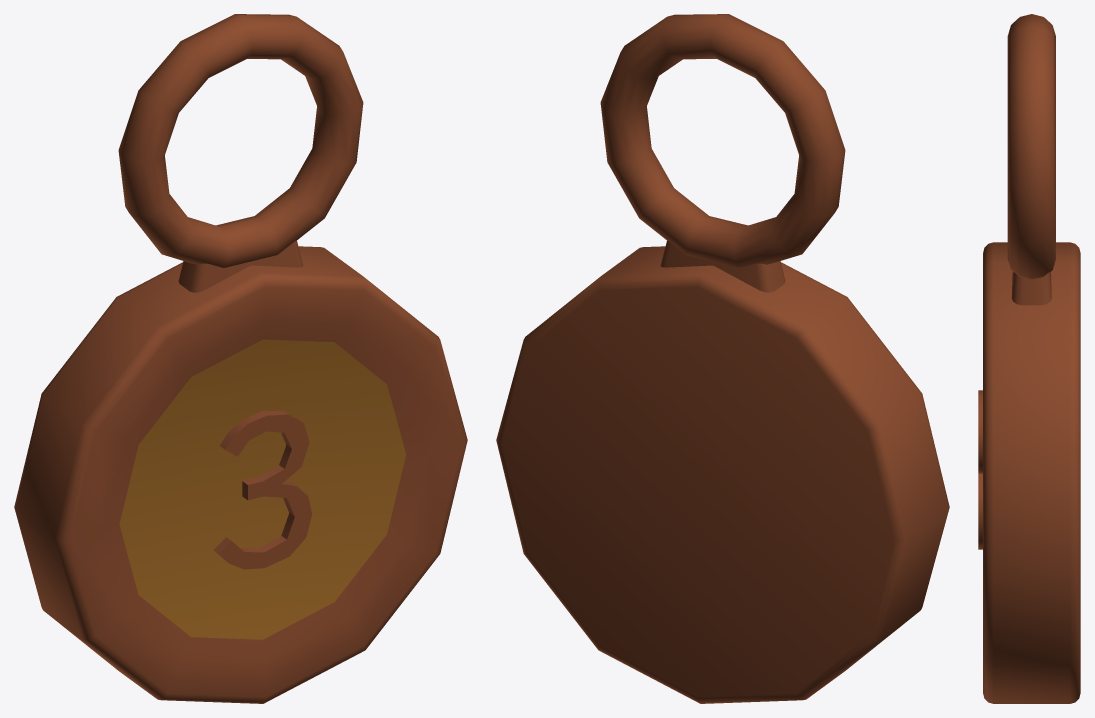
The model's file is Medal_3.fbx.
The picture shows the model from 3 angles, left to right: view 1: azimuth 30°, elevation 25°; view 2: azimuth 150°, elevation 25°; view 3: azimuth 270°, elevation 25°; orthographic projection. The views are drawn at different scales.
Visible parts, largest first — view 1: Medal_3; view 2: Medal_3; view 3: Medal_3.
Part boxes in pixels (x1,y1,x2,y2): Medal_3: [14, 14, 467, 703]; Medal_3: [496, 14, 949, 703]; Medal_3: [978, 14, 1080, 703].
Bounding box in the file's own units: 0.1395 × 0.2181 × 0.0308.
